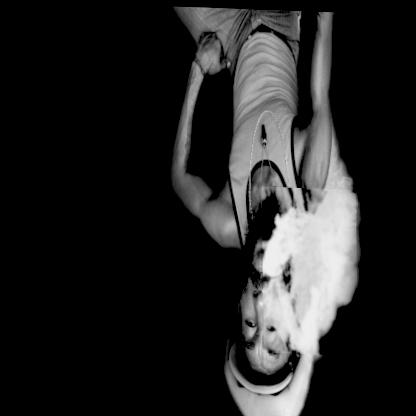smoke: (261, 185, 357, 353)
